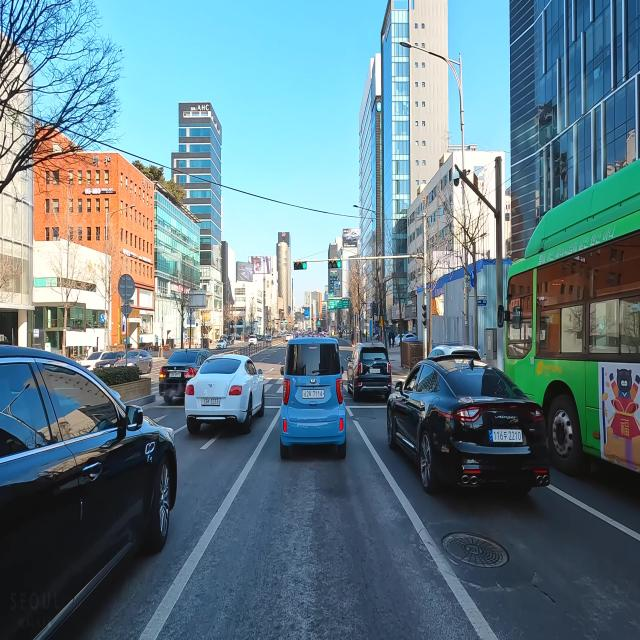Green Light: (302, 262, 306, 269), (338, 261, 342, 268)
